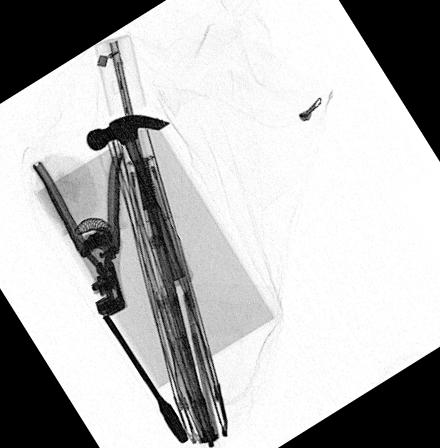Hammer: (86, 112, 187, 281)
Pliers: (25, 142, 128, 318)
Wrench: (98, 309, 189, 442)
